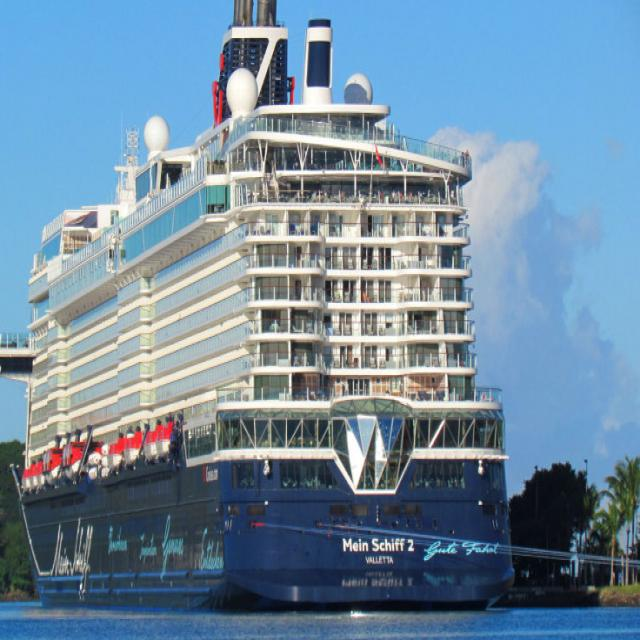cruises: (1, 1, 519, 622)
